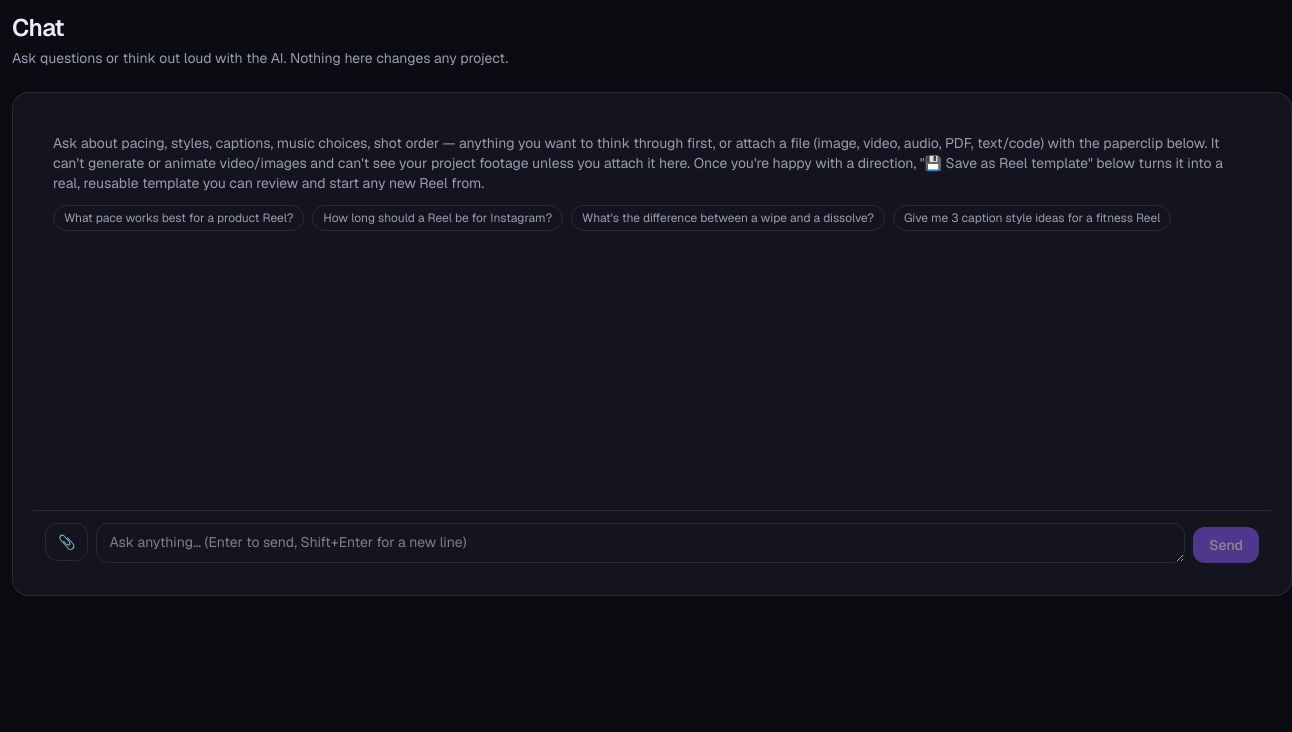
Test case: Chat (free-form conversation with the AI, separate from any project) › shows a friendly error and keeps the message on failure, with a retry
Type "hello" into the text box named "Message" at (641, 543), box [96,523,1185,563]
Then press Enter
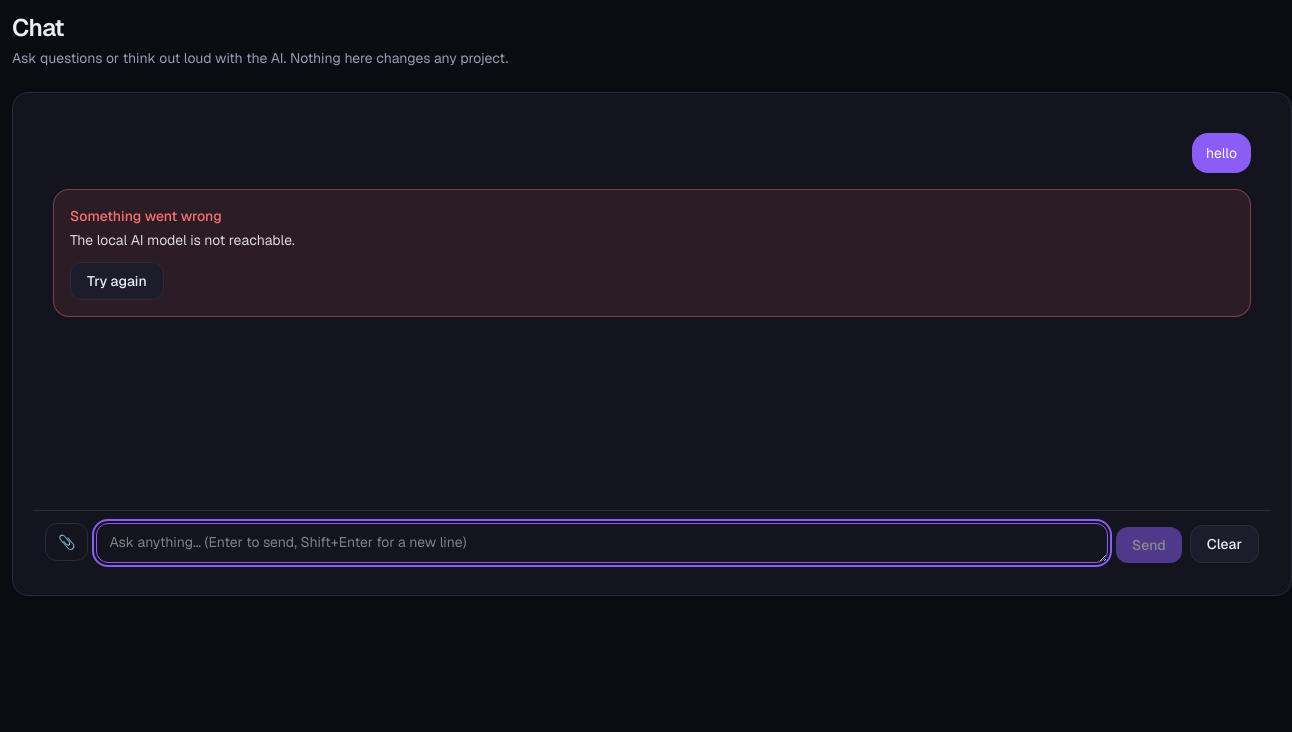
expect the message "Something went wrong The local AI model is not reachable. Try again" is shown: met, box [53,189,1251,317]
expect the text "The local AI model is not reachable." is shown: met, box [70,231,295,249]
expect the text "hello" is shown: met, box [1206,143,1237,163]
Click the button "Try again" at (117, 281), box [70,262,164,300]
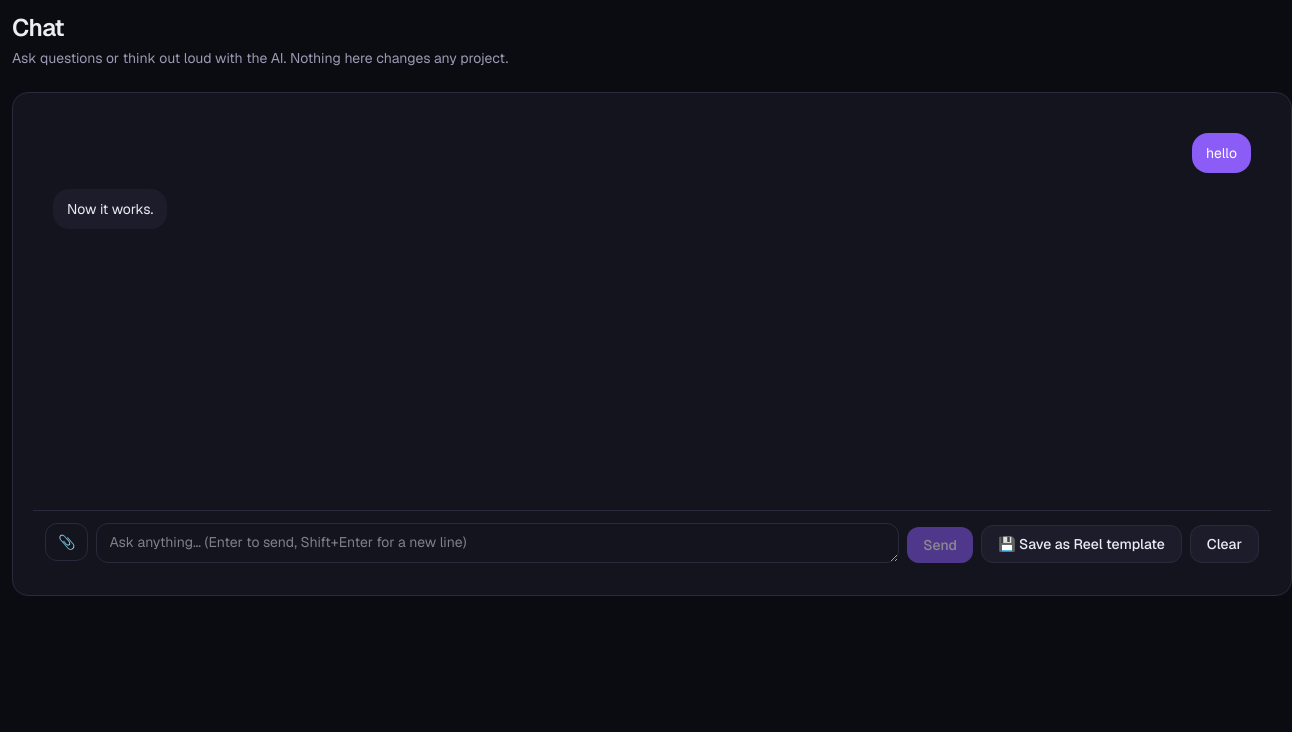
expect the text "Now it works." is shown: met, box [67,199,153,219]
